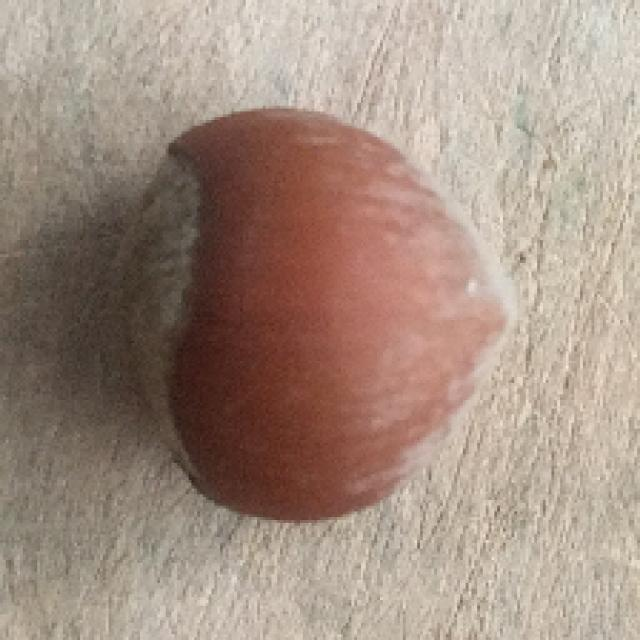qualityHazelnut: (104, 106, 526, 538)
